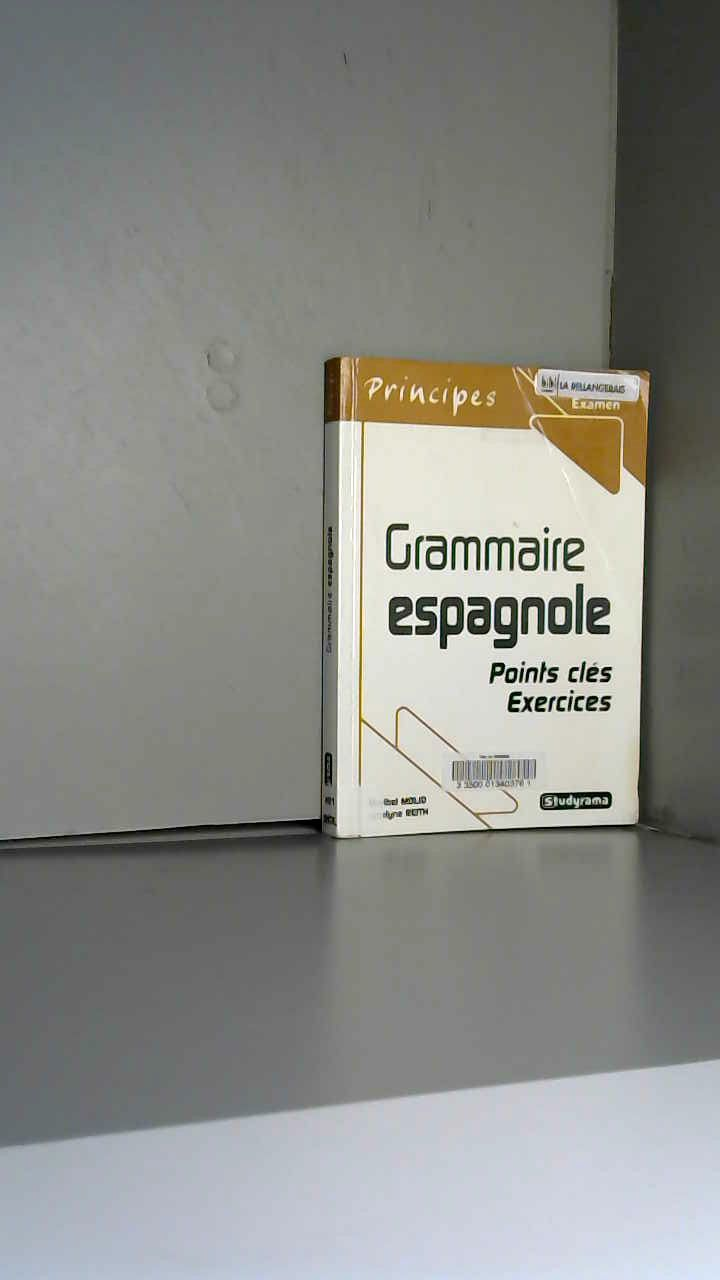book: (290, 330, 717, 932)
